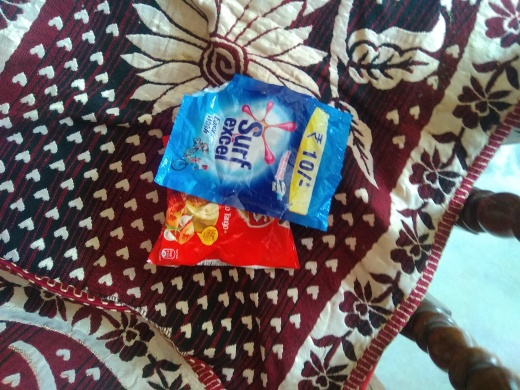lays: (148, 184, 311, 276)
surf: (152, 73, 347, 228)
